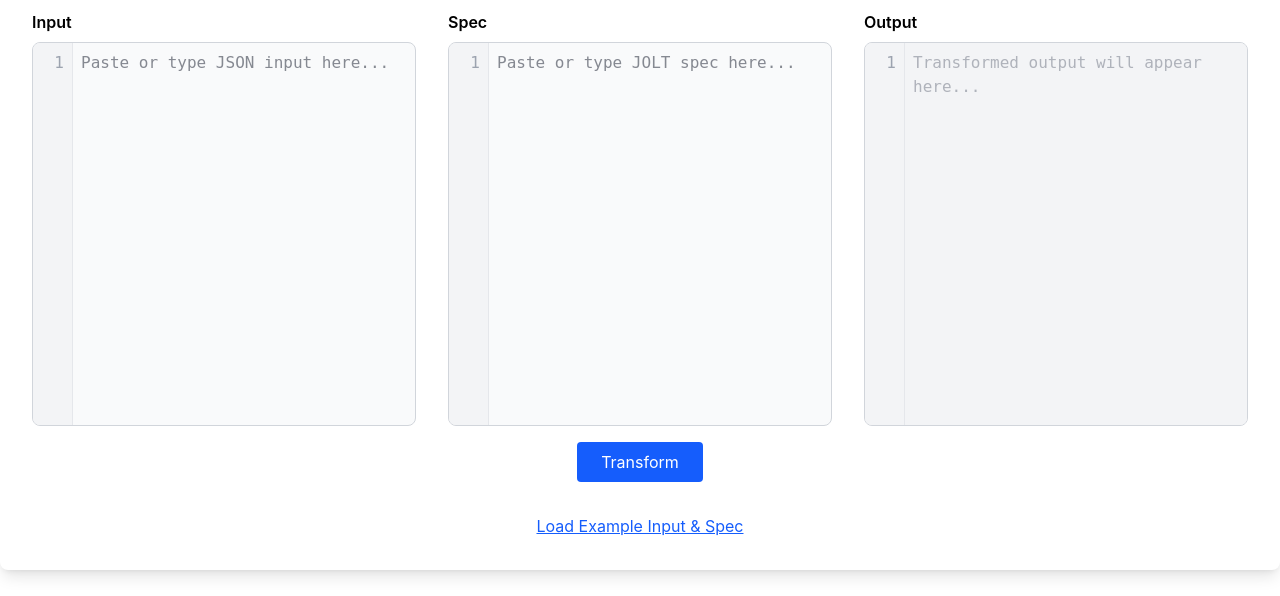
TransformPage › disables the button while loading
Click the button "Transform".
click(640, 462)  # box [577,442,703,482]
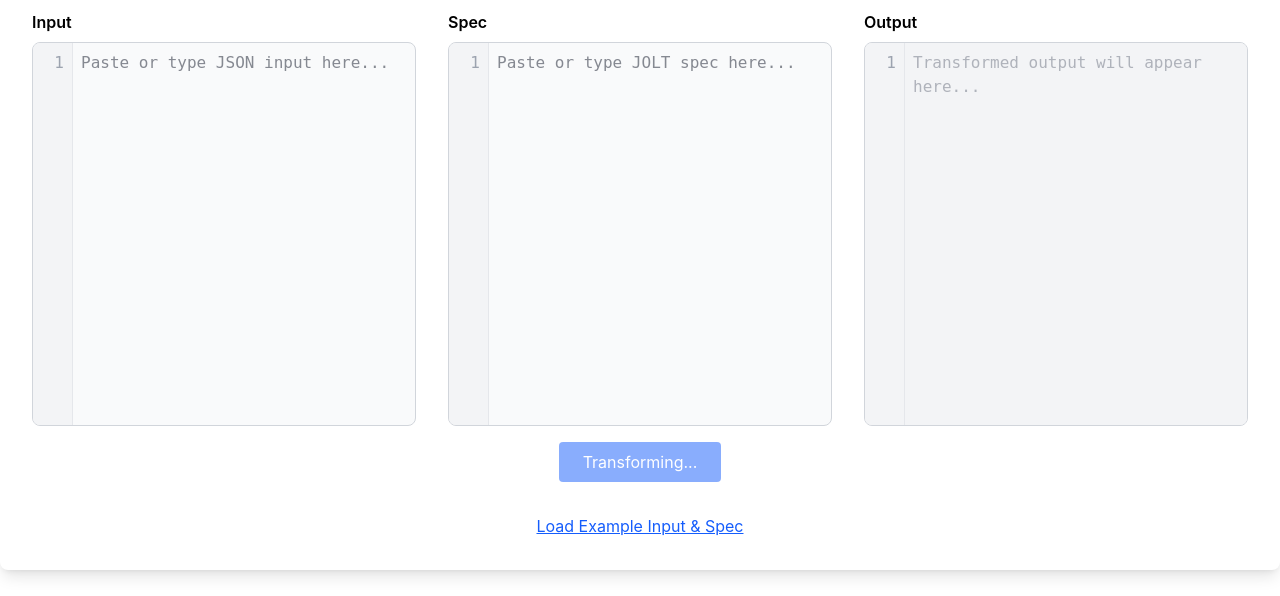
Expected: the button "Transforming..." is disabled, [559,442,721,482]
